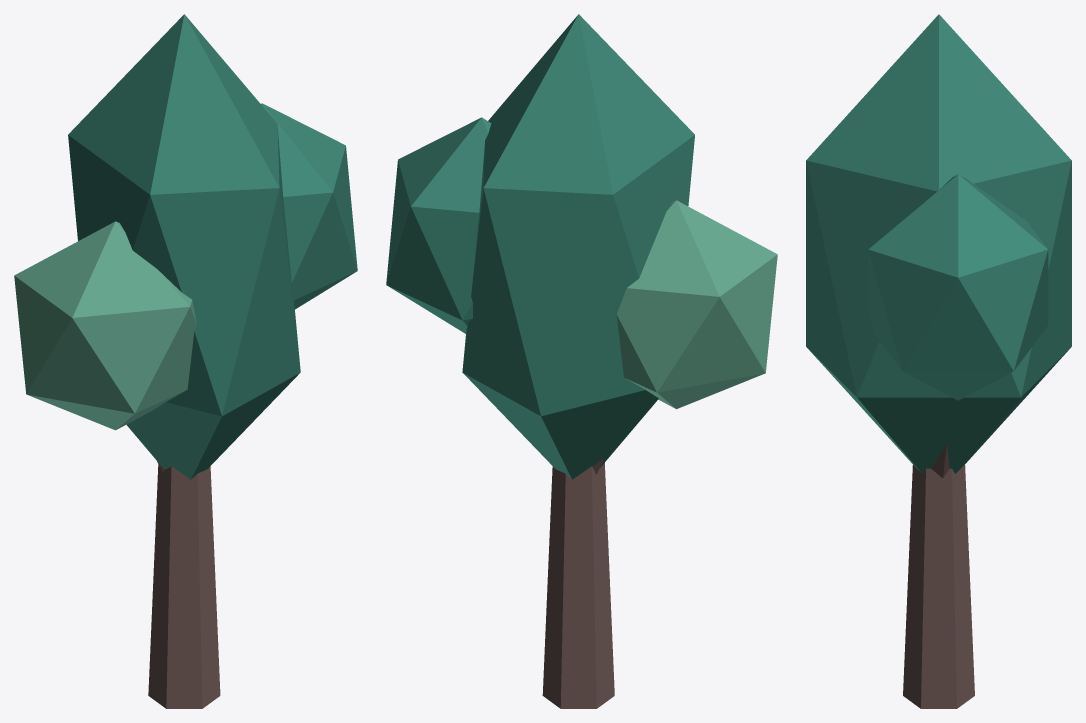
Rendered from SM_ENV_Tree_002_Slender.glb.
The picture shows the model from 3 angles, left to right: view 1: azimuth 30°, elevation 25°; view 2: azimuth 150°, elevation 25°; view 3: azimuth 270°, elevation 25°; orthographic projection.
Visible parts, largest first — view 1: SM_ENV_Tree_002_Slender; view 2: SM_ENV_Tree_002_Slender; view 3: SM_ENV_Tree_002_Slender.
Boxes of the visible parts, x1=… form: SM_ENV_Tree_002_Slender: x1=14, y1=14, x2=357, y2=708; SM_ENV_Tree_002_Slender: x1=386, y1=14, x2=777, y2=708; SM_ENV_Tree_002_Slender: x1=806, y1=14, x2=1071, y2=708.
Bounding box in the file's own units: 1.65 × 3.13 × 1.11.
